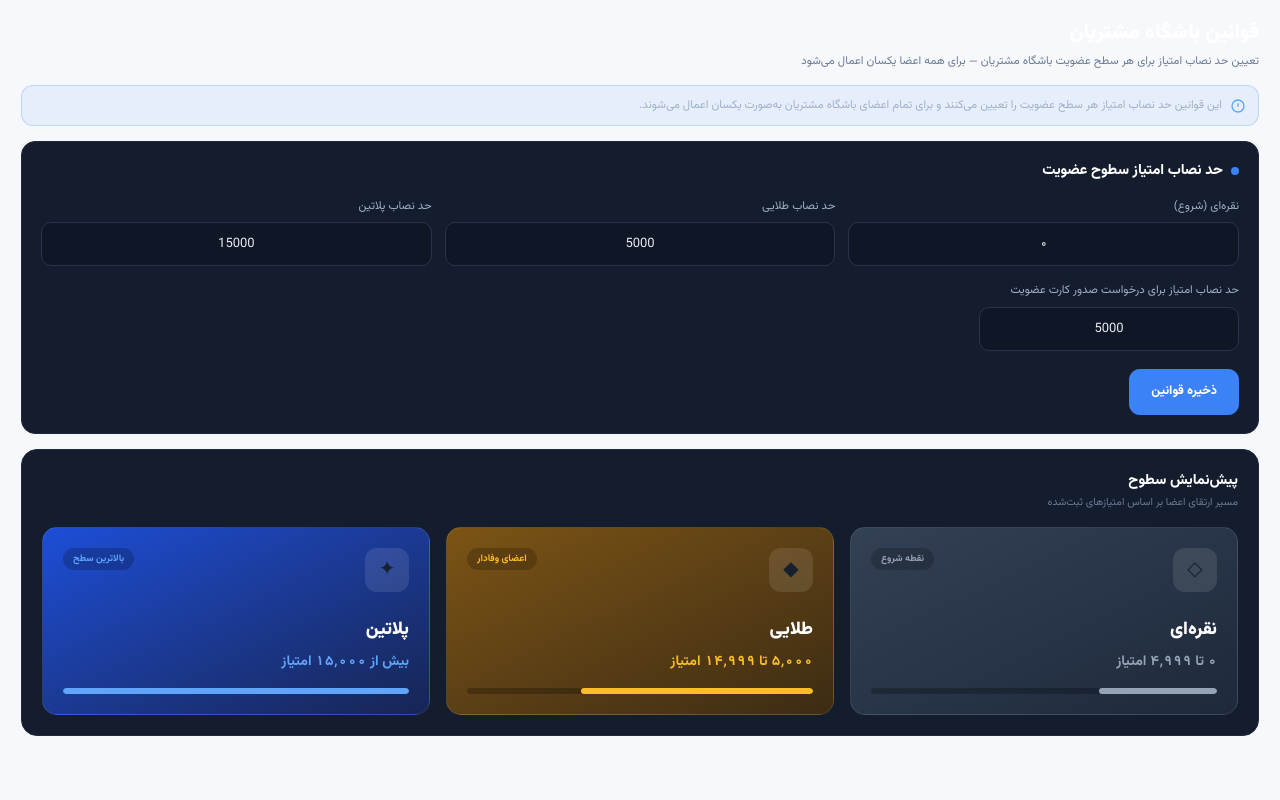
it: ClubTierRulesPage › shows the real server error message on a save failure
Expected: the field with test id "ctr-gold" is shown, [445,222,835,266]
Click the button with test id "ctr-save" at (1184, 392), box [1129,368,1239,414]
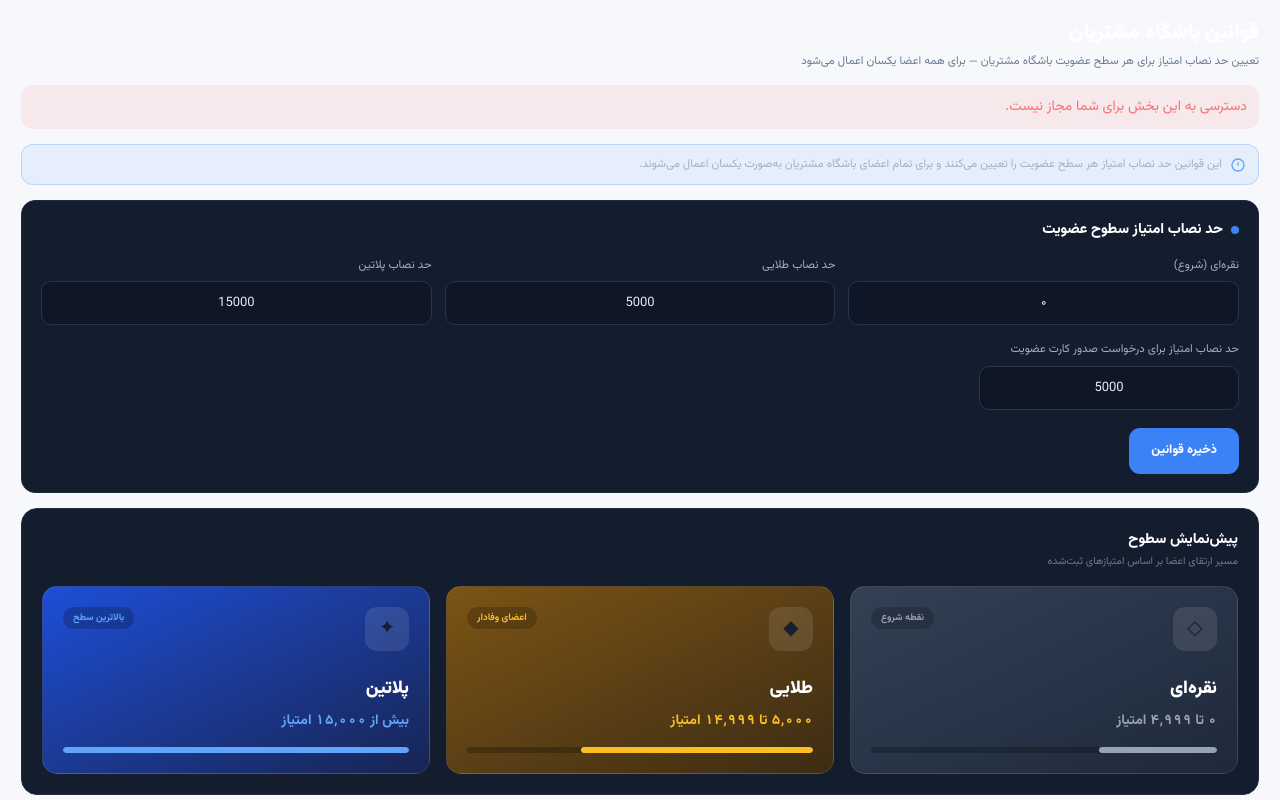
Now the text "دسترسی به این بخش برای شما مجاز نیست." is shown, box [21,85,1259,129]
